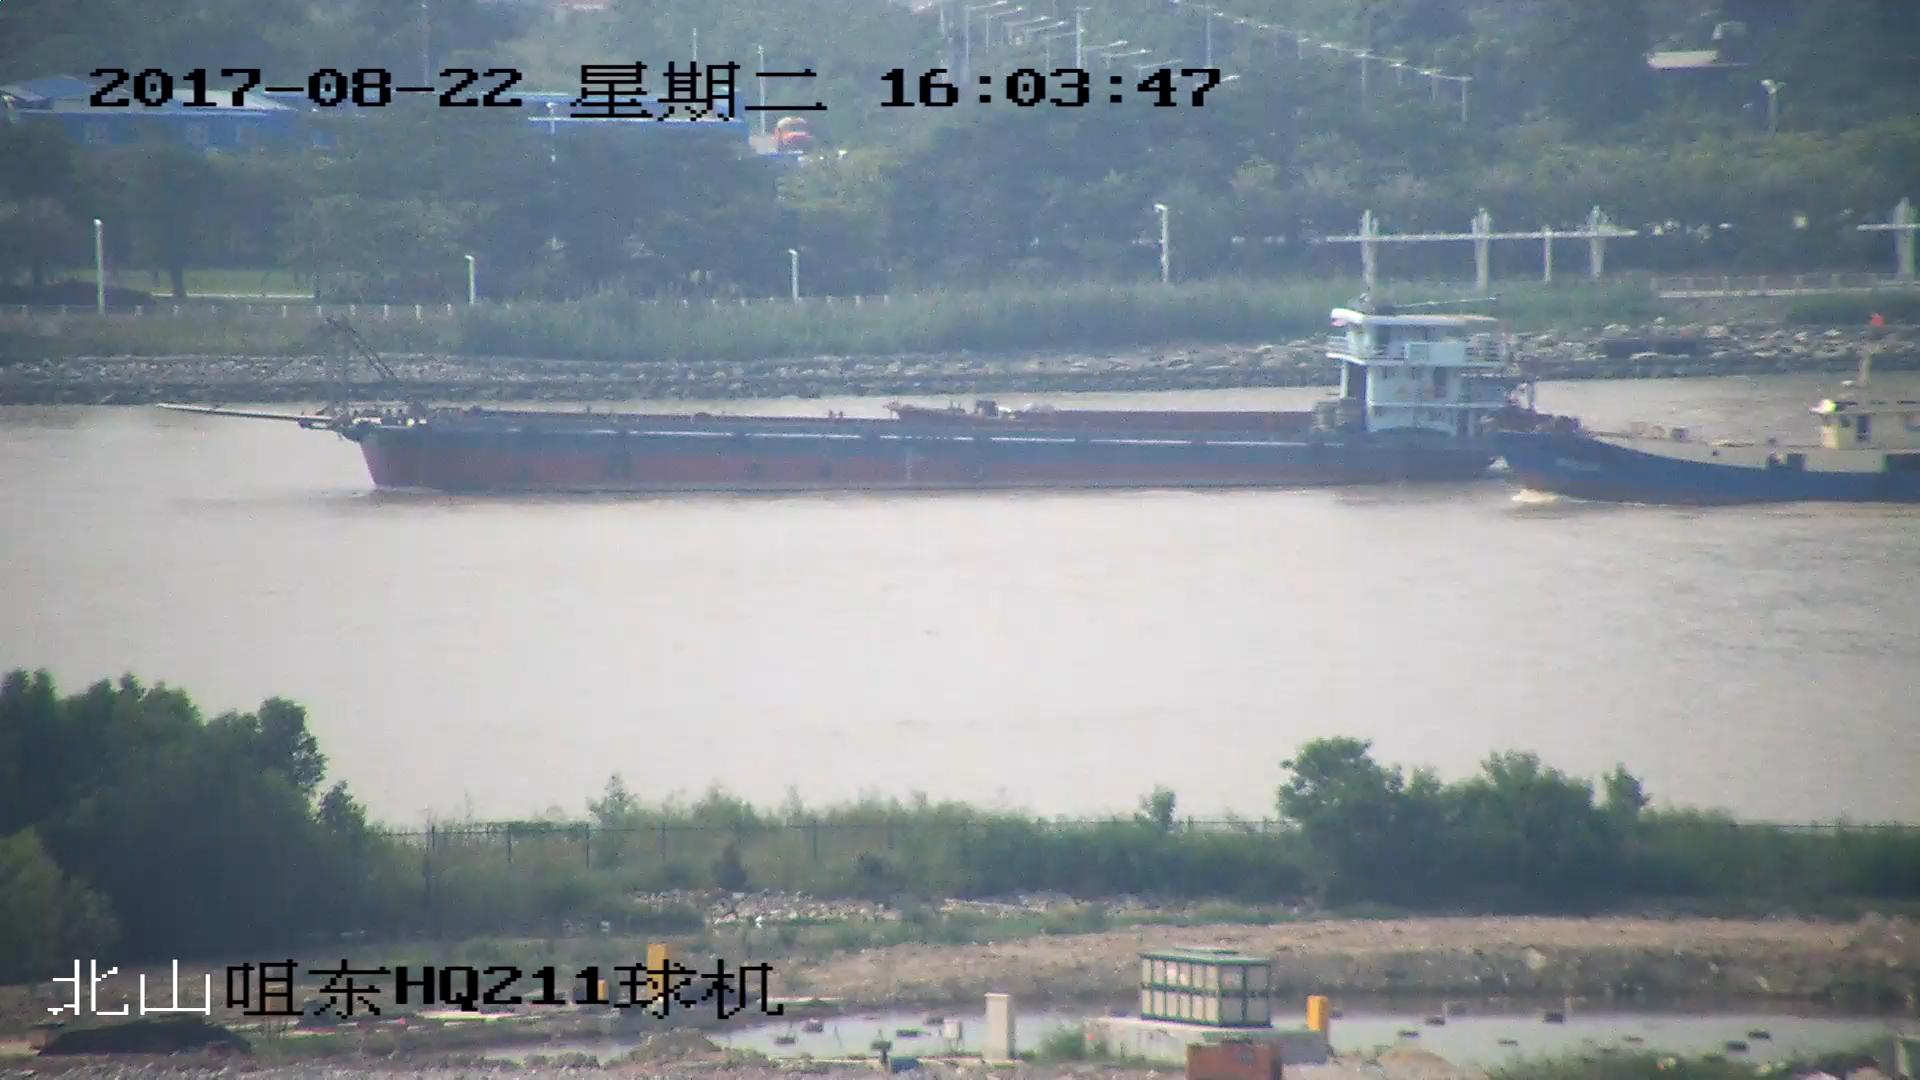bulk cargo carrier: (161, 299, 1557, 497)
fishing boat: (1487, 312, 1920, 507)
